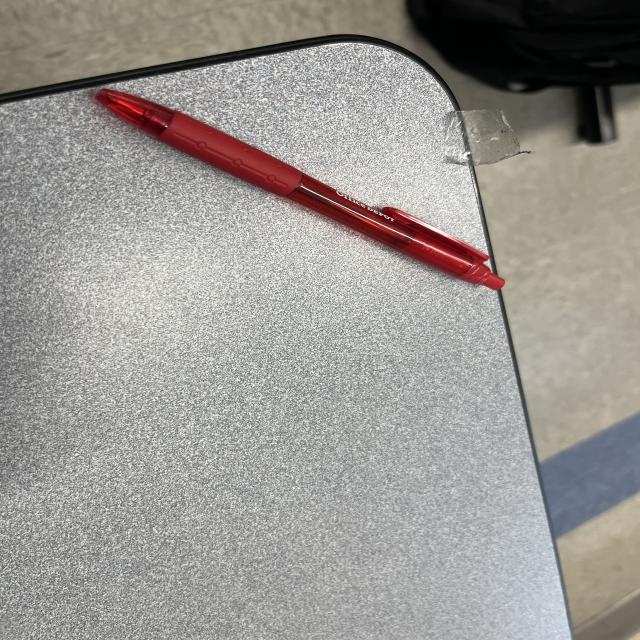pen: (93, 88, 506, 293)
